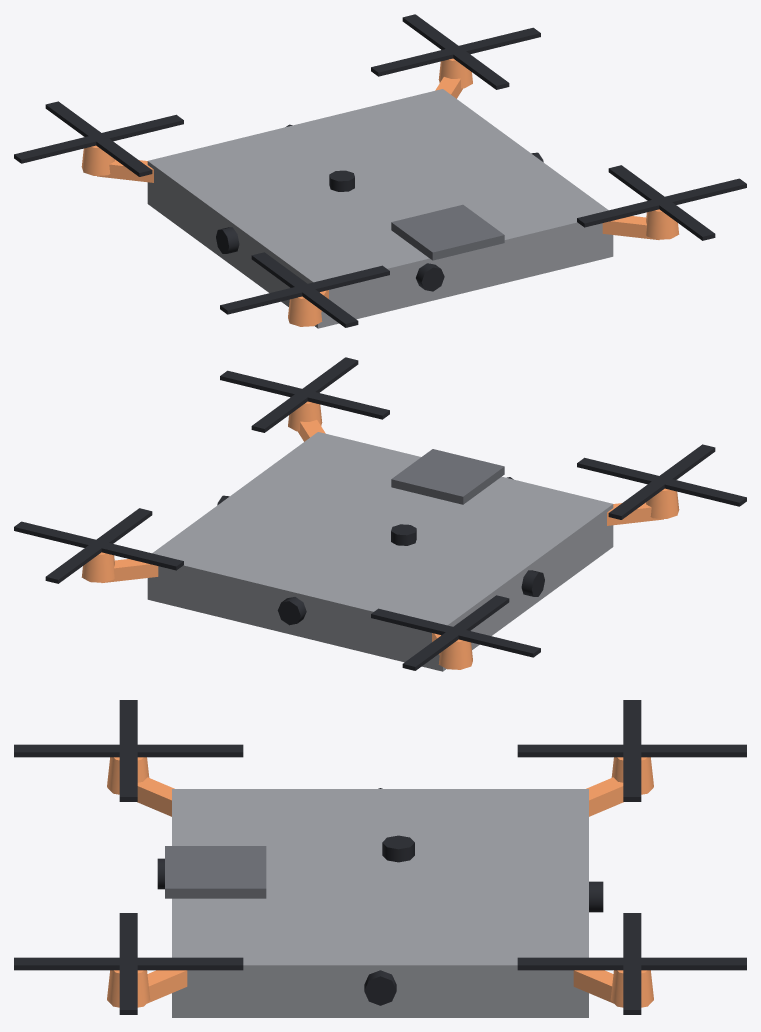
The model's file is build_drone_large.glb.
The picture shows the model from 3 angles, top to bottom: view 1: azimuth 30°, elevation 25°; view 2: azimuth 150°, elevation 25°; view 3: azimuth 270°, elevation 25°; orthographic projection. The views are drawn at different scales.
Parts seen in each view (by area): view 1: Baked, _MeshInstance3D_737, _MeshInstance3D_733, _MeshInstance3D_729, _MeshInstance3D_725, _MeshInstance3D_724, _MeshInstance3D_736, _MeshInstance3D_728, _MeshInstance3D_732, Dial2, Dial3; view 2: Baked, _MeshInstance3D_729, _MeshInstance3D_725, _MeshInstance3D_733, _MeshInstance3D_737, _MeshInstance3D_732, _MeshInstance3D_728, _MeshInstance3D_736, _MeshInstance3D_724, Dial0, Dial3; view 3: Baked, _MeshInstance3D_724, _MeshInstance3D_732, _MeshInstance3D_728, _MeshInstance3D_736, _MeshInstance3D_729, _MeshInstance3D_737, _MeshInstance3D_733, _MeshInstance3D_725, Dial1, Dial4.
Boxes of the visible parts, x1,y1,x2,y2 form: Baked: (81, 58, 679, 328); _MeshInstance3D_737: (577, 178, 746, 227); _MeshInstance3D_733: (220, 265, 389, 314); _MeshInstance3D_729: (371, 27, 540, 76); _MeshInstance3D_725: (14, 114, 183, 163); _MeshInstance3D_724: (45, 101, 152, 176); _MeshInstance3D_736: (608, 165, 715, 240); _MeshInstance3D_728: (402, 14, 509, 89); _MeshInstance3D_732: (251, 252, 358, 327); Dial2: (416, 263, 444, 291); Dial3: (216, 227, 239, 253); Baked: (81, 401, 679, 671); _MeshInstance3D_729: (14, 521, 183, 570); _MeshInstance3D_725: (371, 608, 540, 657); _MeshInstance3D_733: (577, 457, 746, 506); _MeshInstance3D_737: (220, 370, 389, 419); _MeshInstance3D_732: (608, 444, 715, 519); _MeshInstance3D_728: (45, 508, 152, 583); _MeshInstance3D_736: (251, 357, 358, 432); _MeshInstance3D_724: (402, 595, 509, 670); Dial0: (277, 597, 306, 625); Dial3: (521, 570, 544, 596); Baked: (107, 757, 653, 1017); _MeshInstance3D_724: (517, 744, 746, 757); _MeshInstance3D_732: (14, 744, 243, 757); _MeshInstance3D_728: (517, 957, 746, 970); _MeshInstance3D_736: (14, 957, 243, 970); _MeshInstance3D_729: (623, 913, 641, 1014); _MeshInstance3D_737: (119, 913, 137, 1014); _MeshInstance3D_733: (119, 700, 137, 801); _MeshInstance3D_725: (623, 700, 641, 801); Dial1: (364, 970, 396, 1005); Dial4: (382, 835, 414, 862).
Size of the model in its own units: 2.02 by 0.2675 by 2.02.
